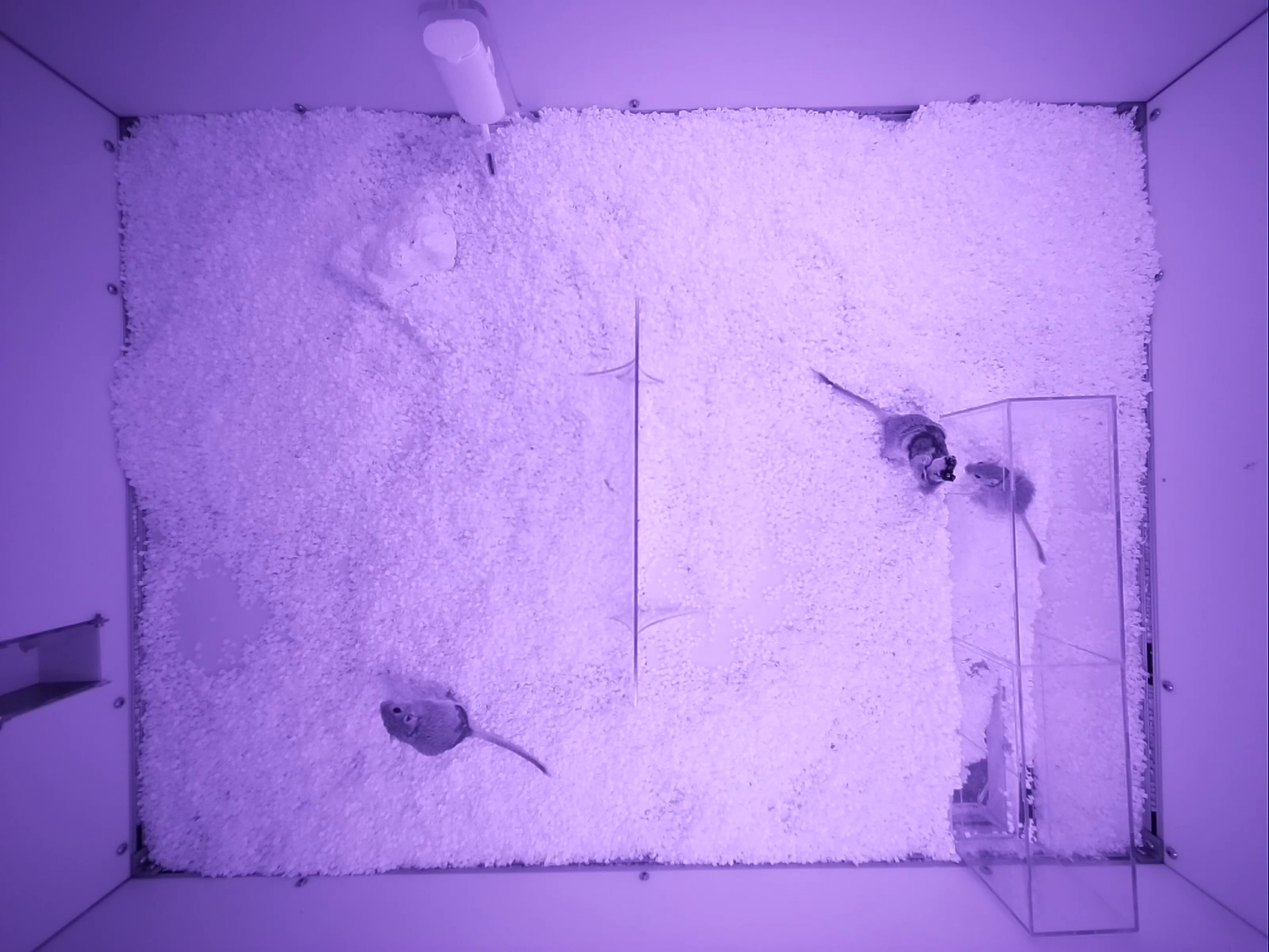adult_back: (815, 370, 956, 492), (380, 696, 547, 771), (965, 462, 1045, 562)
